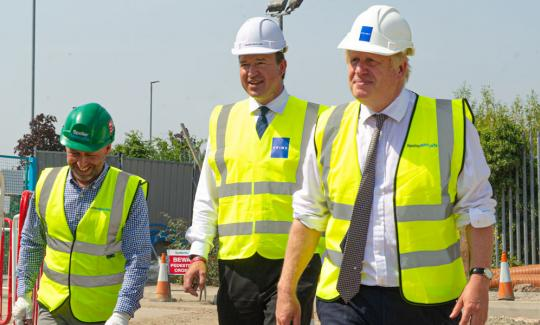Helmet: (335, 3, 429, 115), (224, 12, 299, 112), (59, 98, 123, 187)
Reflective vest: (313, 92, 475, 305), (204, 96, 328, 261), (34, 164, 150, 322)
